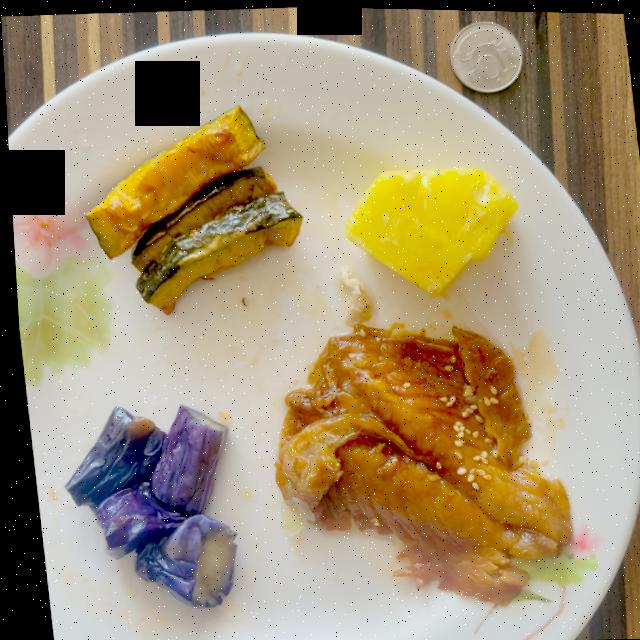Kabayaki sea bream fillet: (270, 323, 566, 603)
coin: (450, 19, 522, 90)
pineapple: (342, 165, 516, 294)
pumpkin: (84, 106, 299, 312)
